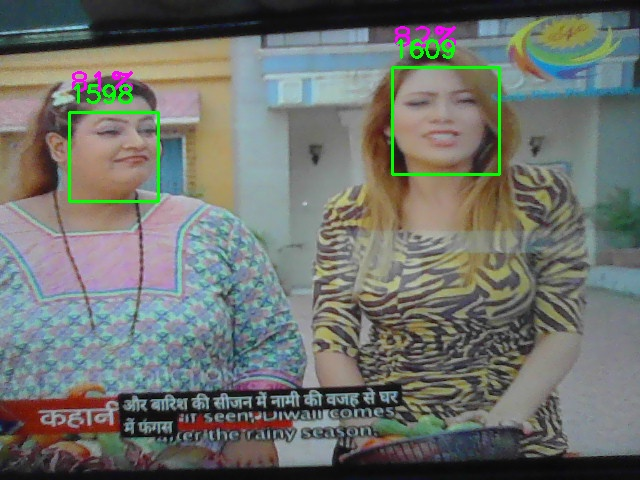fake: (392, 67, 500, 175), (69, 112, 159, 202)
